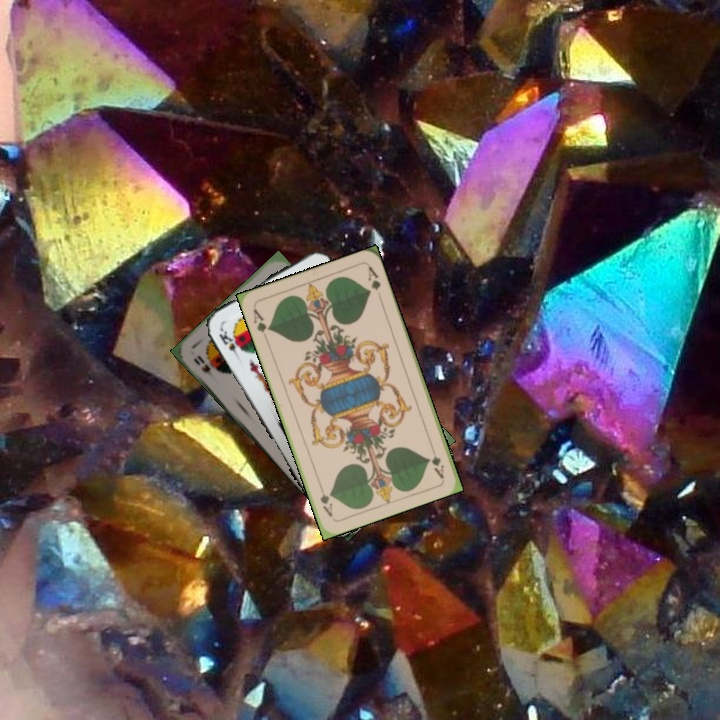GA: (249, 305, 274, 343), (427, 441, 447, 481)
SK: (215, 324, 242, 361)
SO: (189, 351, 219, 383)
